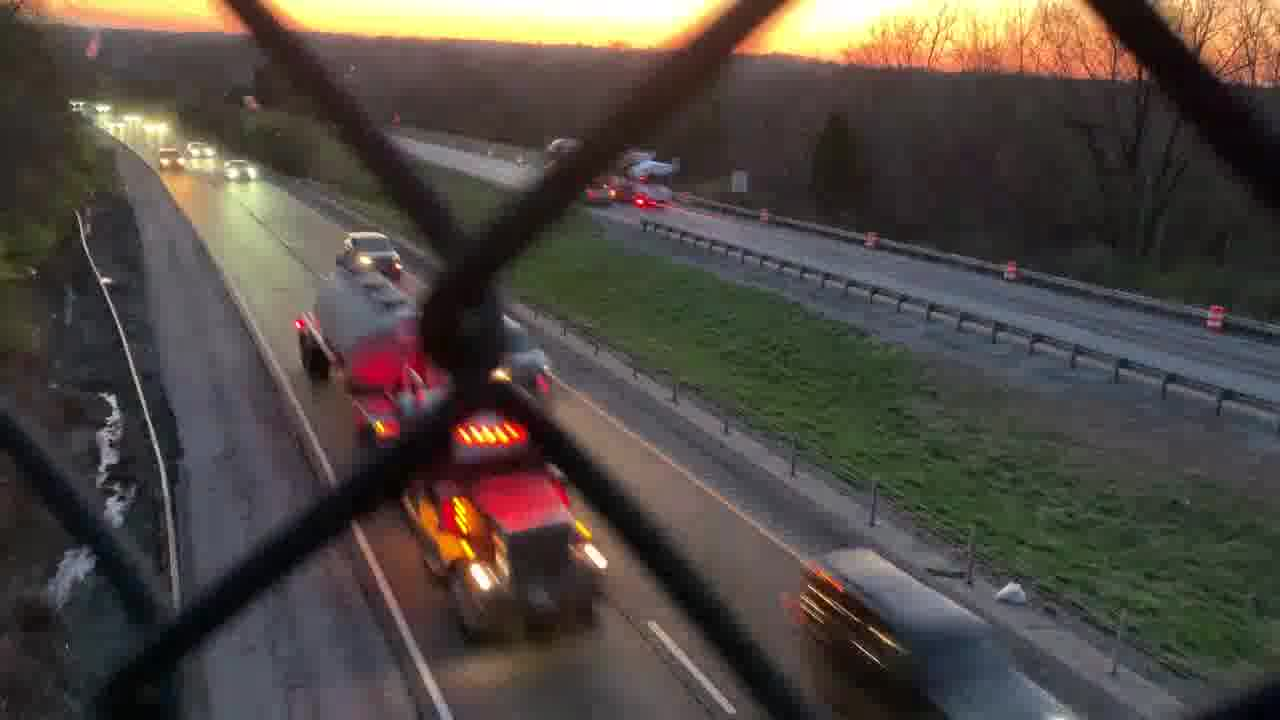heavyTruck: (296, 263, 607, 635)
largeCar: (794, 542, 1077, 720)
